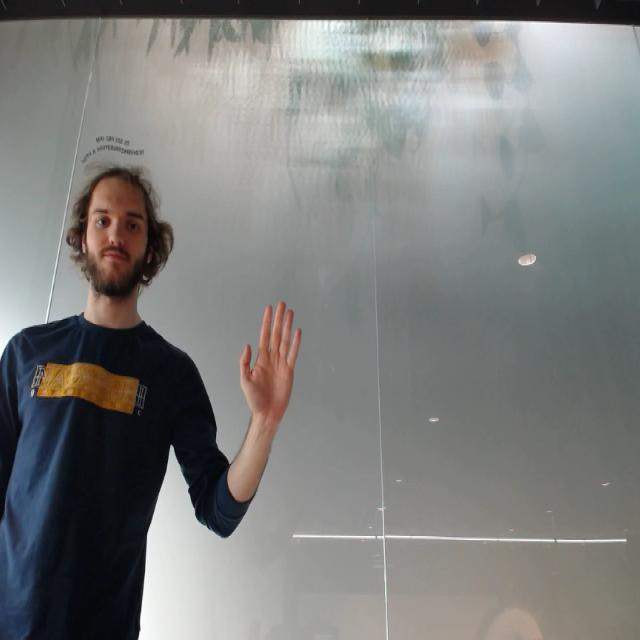backward: (236, 297, 304, 427)
